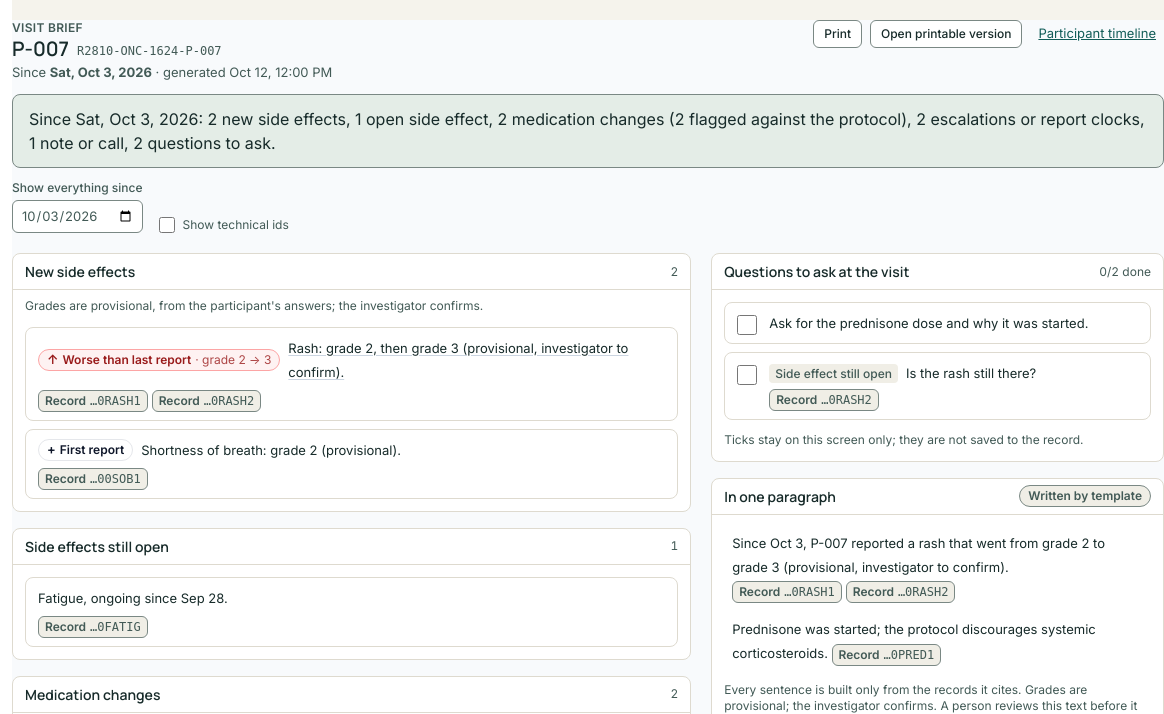
Test case: BriefPage › checks off questions locally
Check: the heading "P-007R2810-ONC-1624-P-007" is shown, box [12,35,222,62]
Check: the text "0/2 done" is shown, box [1099,264,1151,280]
Click the checkbox labelled "Is the rash still there?": (747, 376) [737,366,757,386]
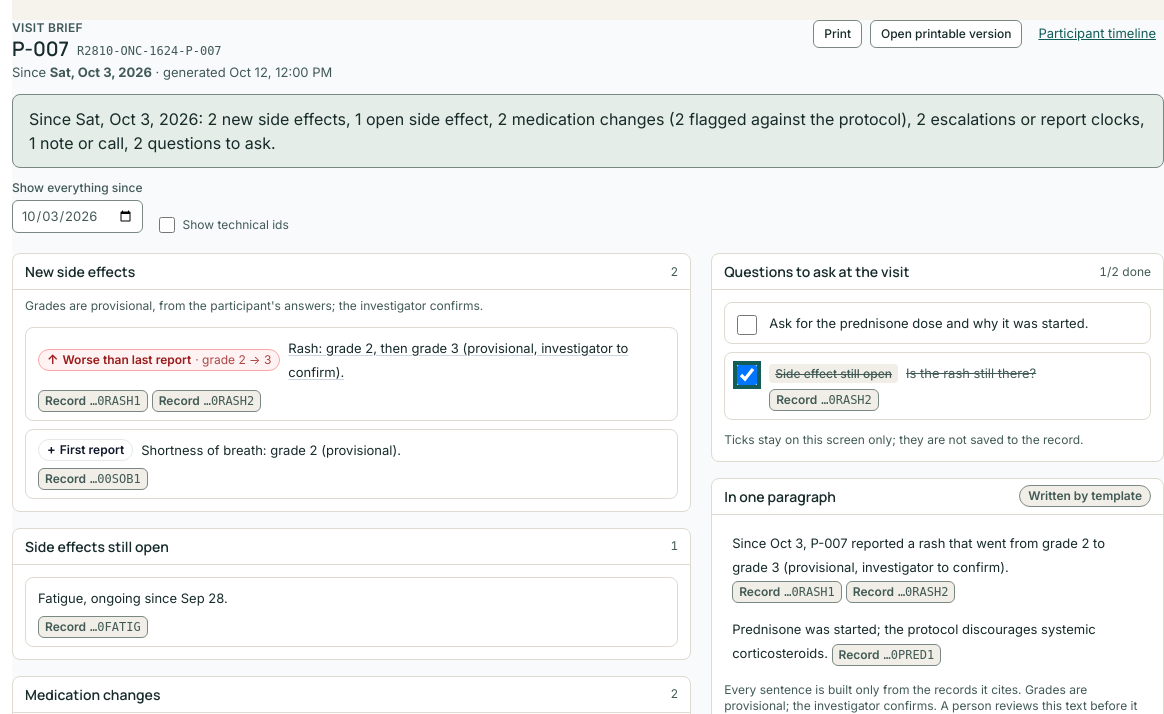
Check: the text "Side effect still open" is shown, box [769,364,898,384]
Check: the checkbox labelled "Is the rash still there?" is checked, box [737,366,757,386]
Check: the text "1/2 done" is shown, box [1099,264,1151,280]
